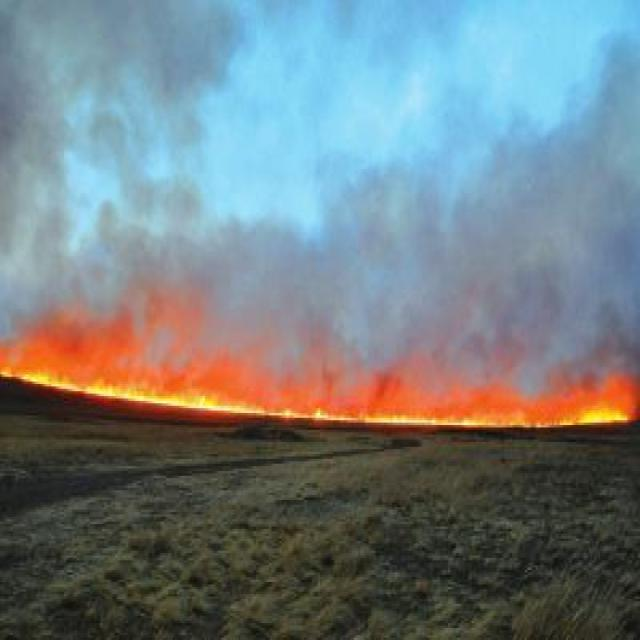fire: (3, 318, 630, 430)
